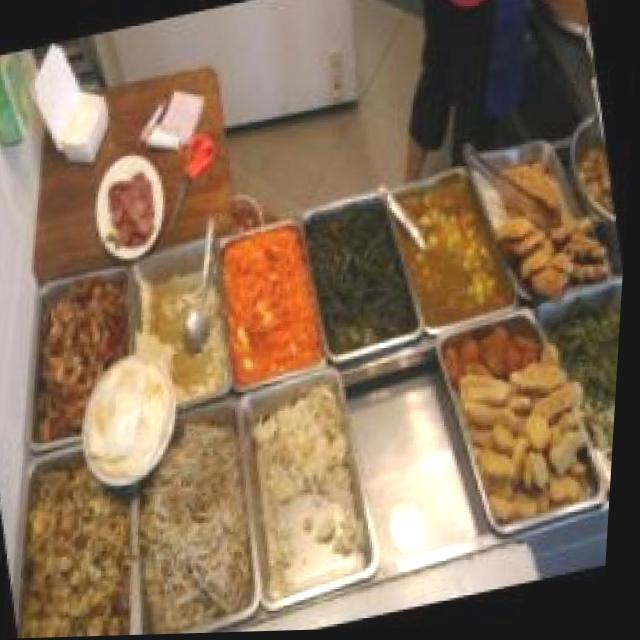carrot_eggs: (217, 230, 332, 383)
chicken_nuggets: (483, 431, 600, 526)
chinese_cabbage: (239, 379, 387, 595)
chinese_sausage: (106, 171, 165, 252)
curry: (399, 178, 514, 323)
fried_eggs: (81, 355, 186, 476)
mung_bean_sprouts: (130, 441, 274, 634)
triangle_hash_brown: (446, 325, 547, 390)
water_spinach: (557, 305, 625, 412)
